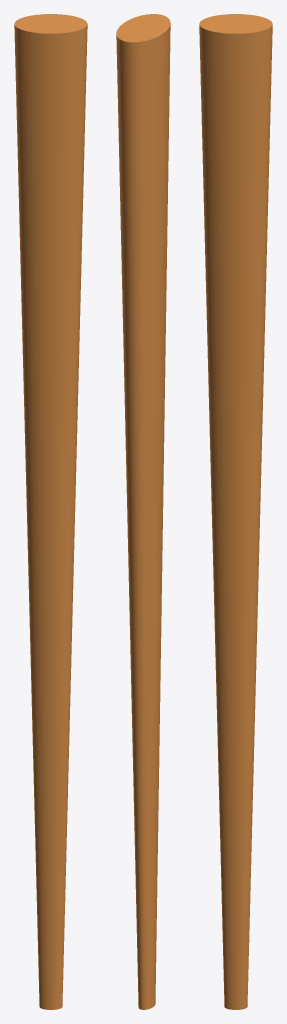
File: Chopstick.fbx
3 renders of one model, left to right at view 1: azimuth 90°, elevation 25°; view 2: azimuth 150°, elevation 25°; view 3: azimuth 270°, elevation 25°, orthographic.
Visible parts, largest first — view 1: Cylinder; view 2: Cylinder; view 3: Cylinder.
Boxes of the visible parts, x1=… form: Cylinder: x1=14, y1=14, x2=87, y2=1009; Cylinder: x1=116, y1=14, x2=170, y2=1009; Cylinder: x1=199, y1=14, x2=272, y2=1009.
Size of the model in its own units: 6.28 by 146 by 9.85.
